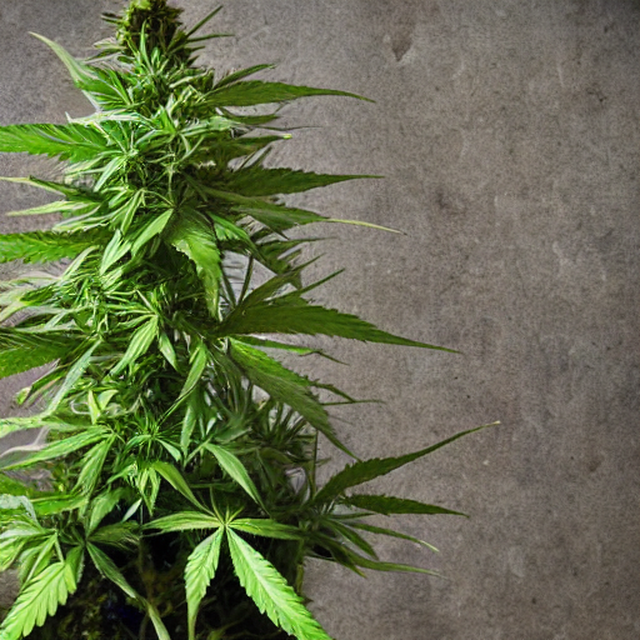Marijuana Plant: (1, 1, 423, 546)
